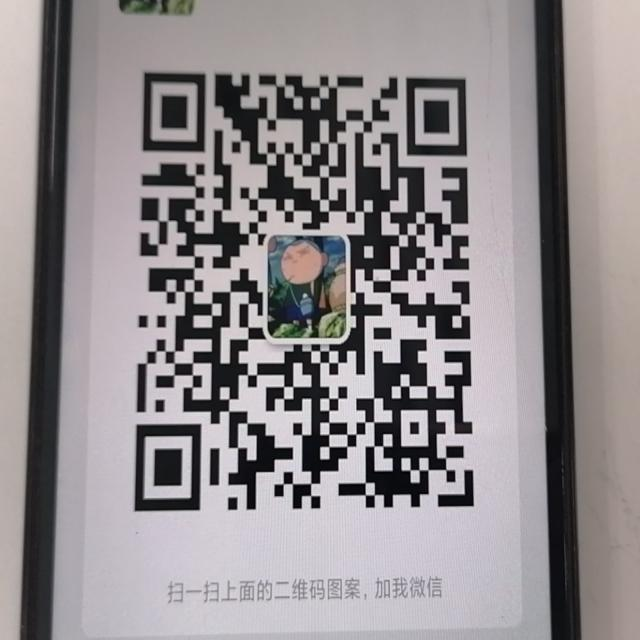qr_code: (135, 72, 476, 512)
